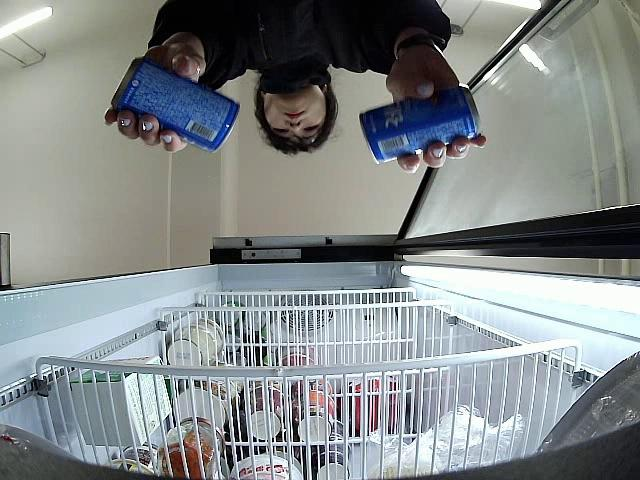00_hand: (386, 48, 487, 176), (104, 41, 201, 154)
15_letsbe: (110, 59, 241, 153), (361, 85, 482, 165)
